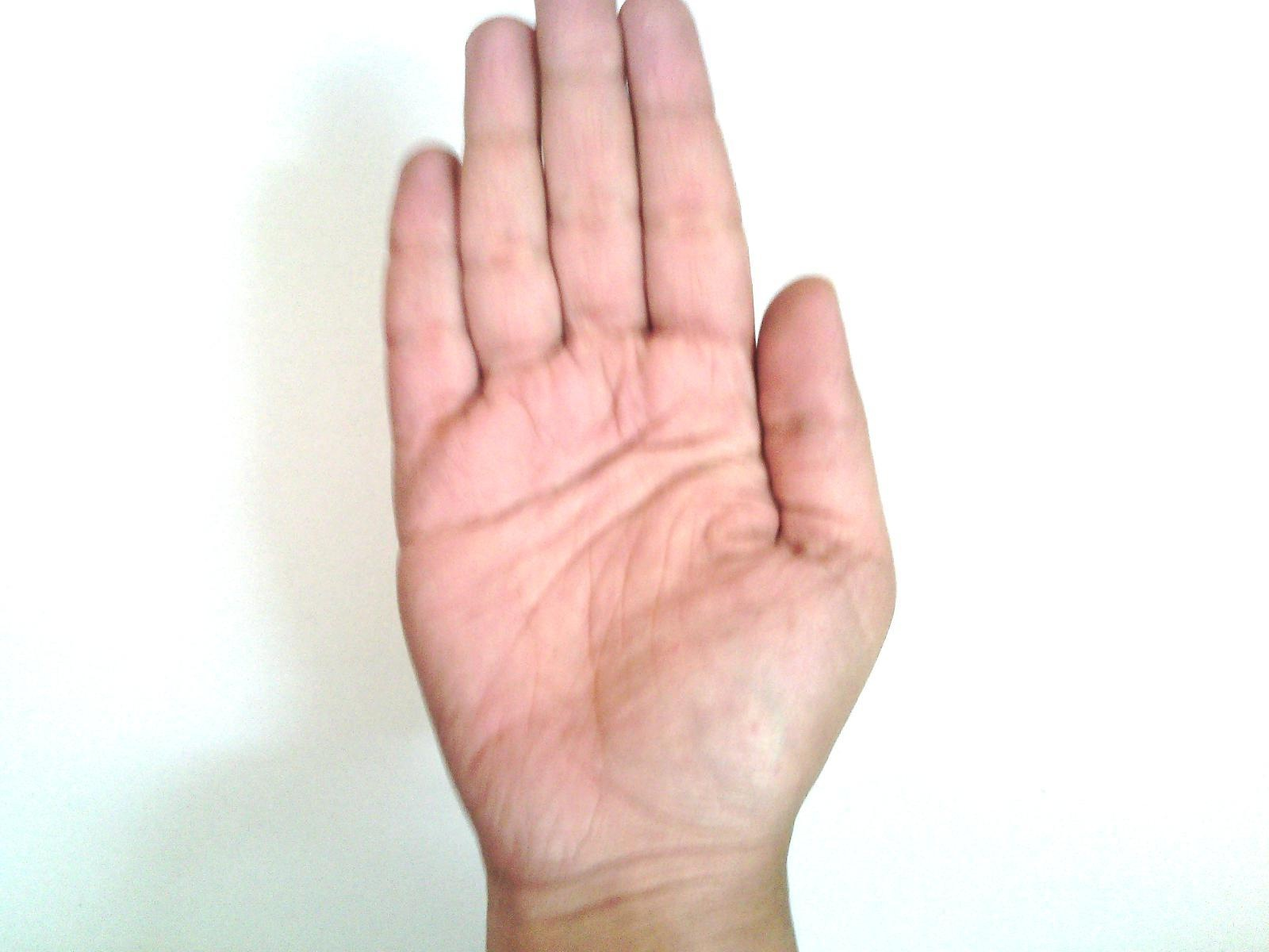open_palm: (378, 4, 898, 884)
